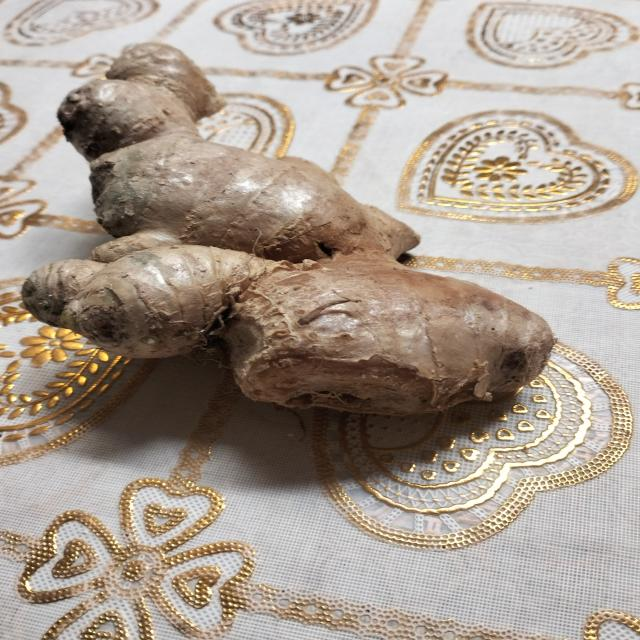ginger: (40, 41, 549, 417)
